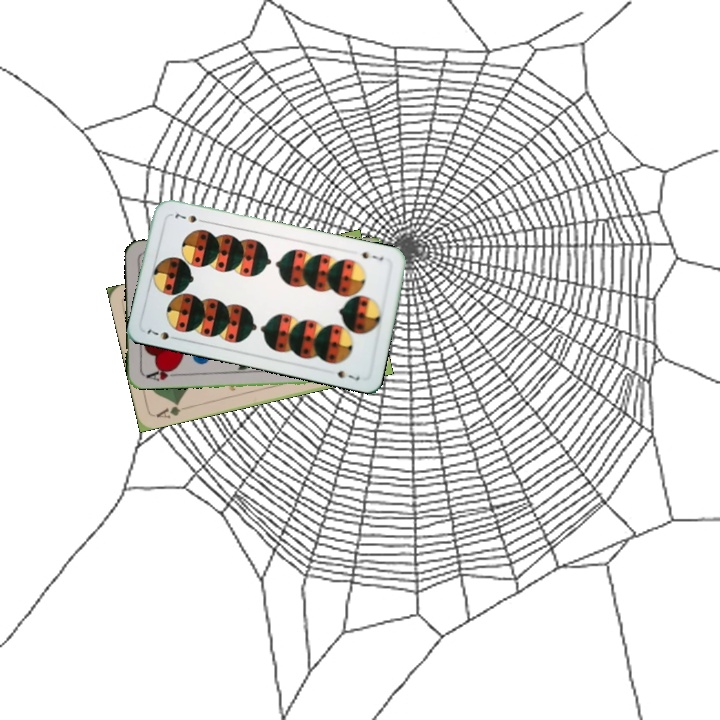GA: (152, 398, 191, 421)
HA: (142, 364, 182, 383)
S7: (143, 325, 182, 343), (358, 248, 386, 264)
